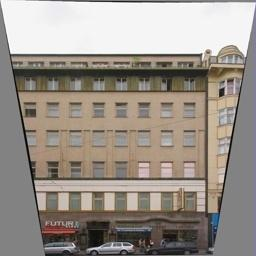building: (2, 37, 249, 252)
